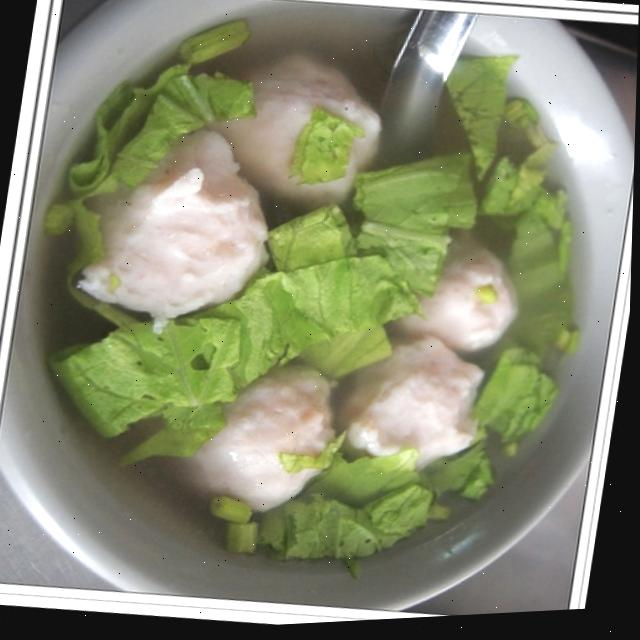熟制海鲜: (1, 0, 631, 632)
